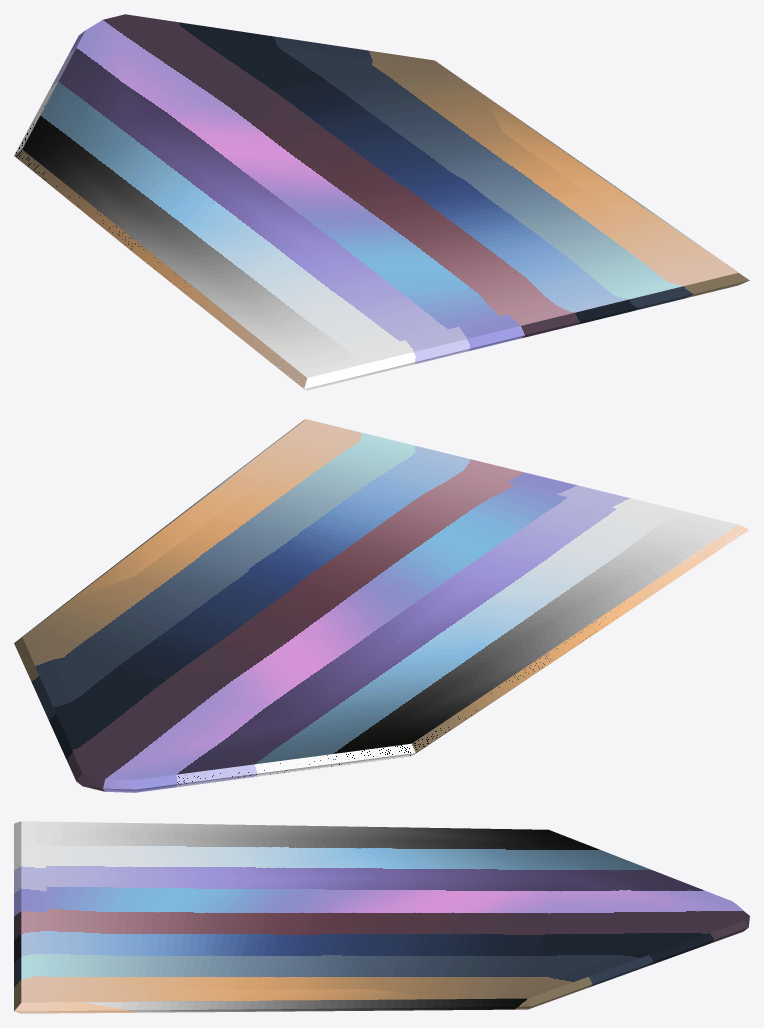
Rendered from P_AP23WallPosterPiano.glb.
3 views of the same model, one above another, from view 1: azimuth 30°, elevation 25°; view 2: azimuth 150°, elevation 25°; view 3: azimuth 270°, elevation 25° (orthographic). The views are drawn at different scales.
Visible parts, largest first — view 1: P_AP23WallPosterPiano; view 2: P_AP23WallPosterPiano; view 3: P_AP23WallPosterPiano.
Part boxes in pixels (left/top/right/bottom): P_AP23WallPosterPiano: left=14, top=14, right=749, bottom=390; P_AP23WallPosterPiano: left=14, top=419, right=749, bottom=792; P_AP23WallPosterPiano: left=14, top=821, right=749, bottom=1013.
Bounding box in the file's own units: 0.9192 × 0.025 × 1.52.
1 material, 1 textured.
